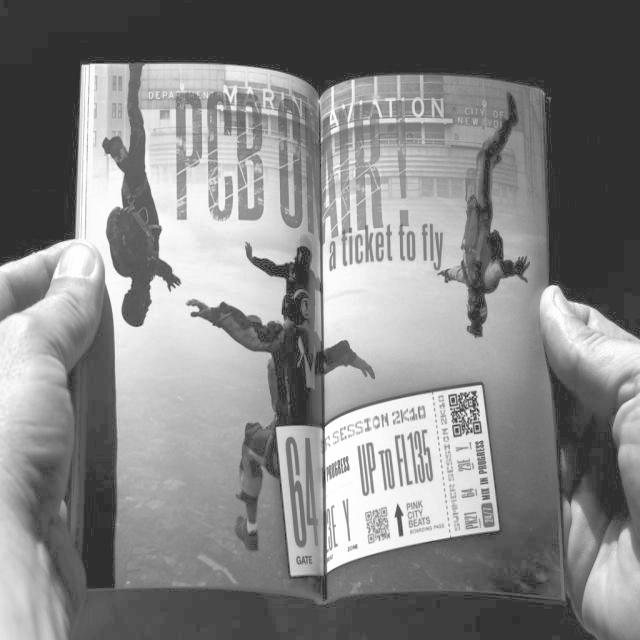qr_code: (448, 391, 481, 437)
